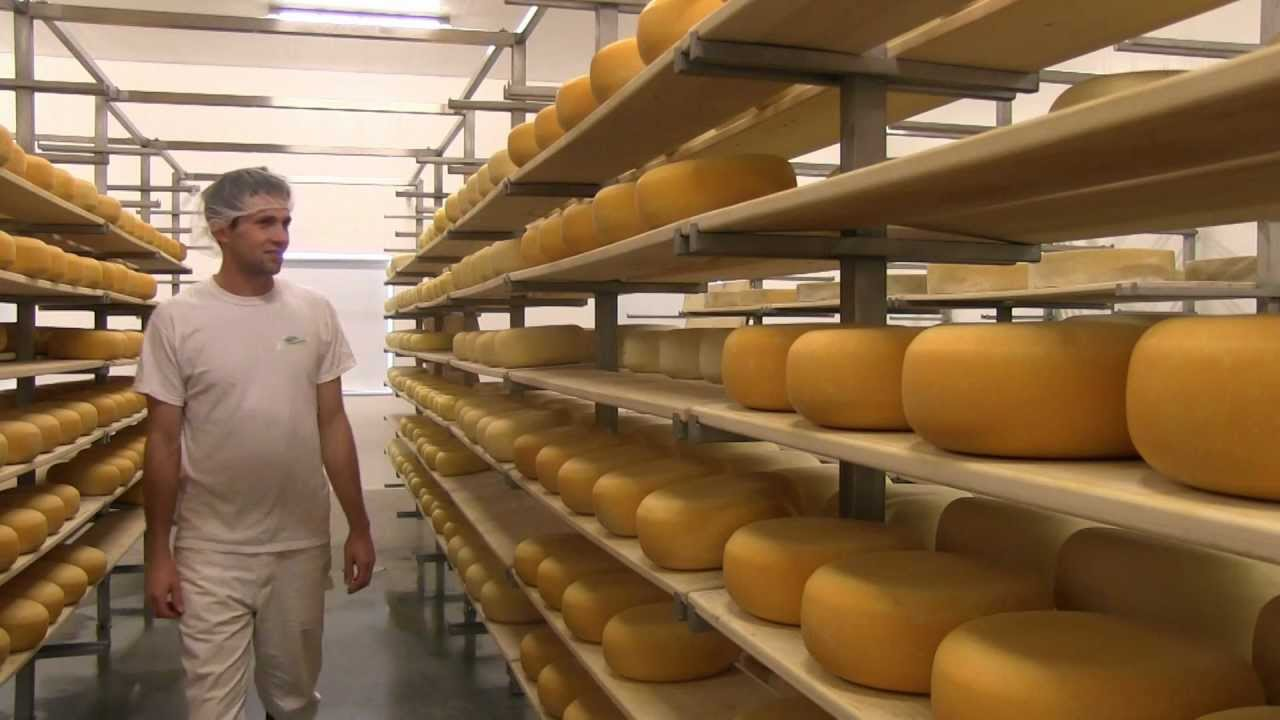cheese: (702, 306, 1280, 472)
